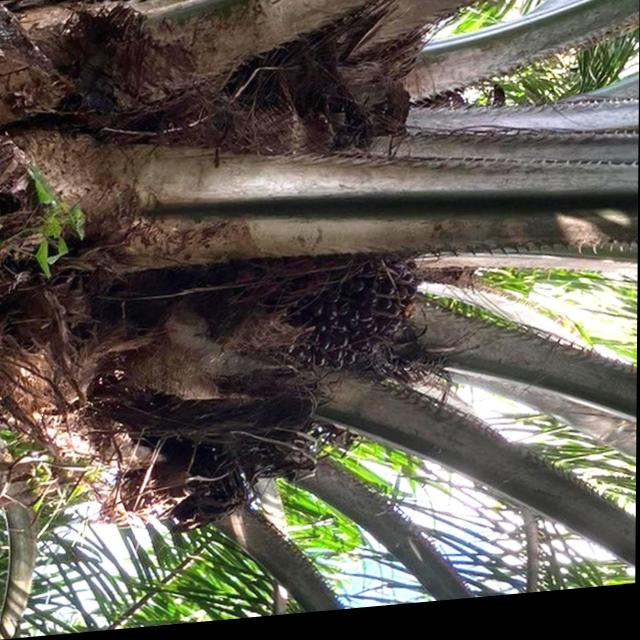ripe: (227, 242, 438, 399)
